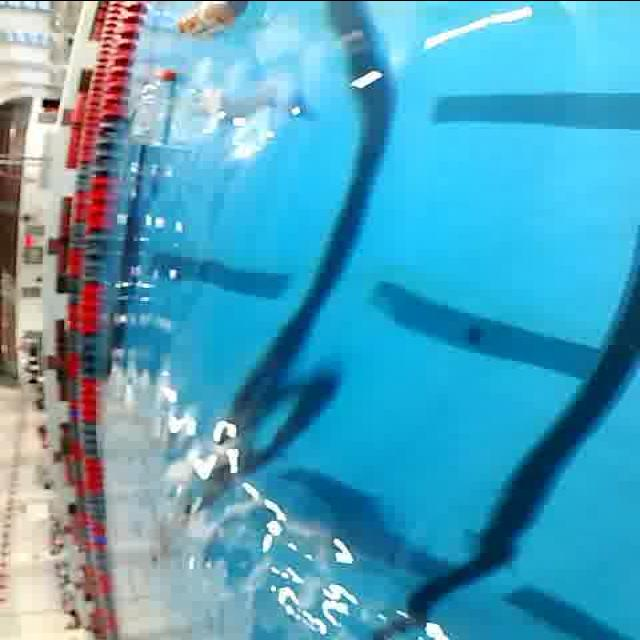Bottle: (116, 64, 190, 154), (168, 0, 256, 45)
